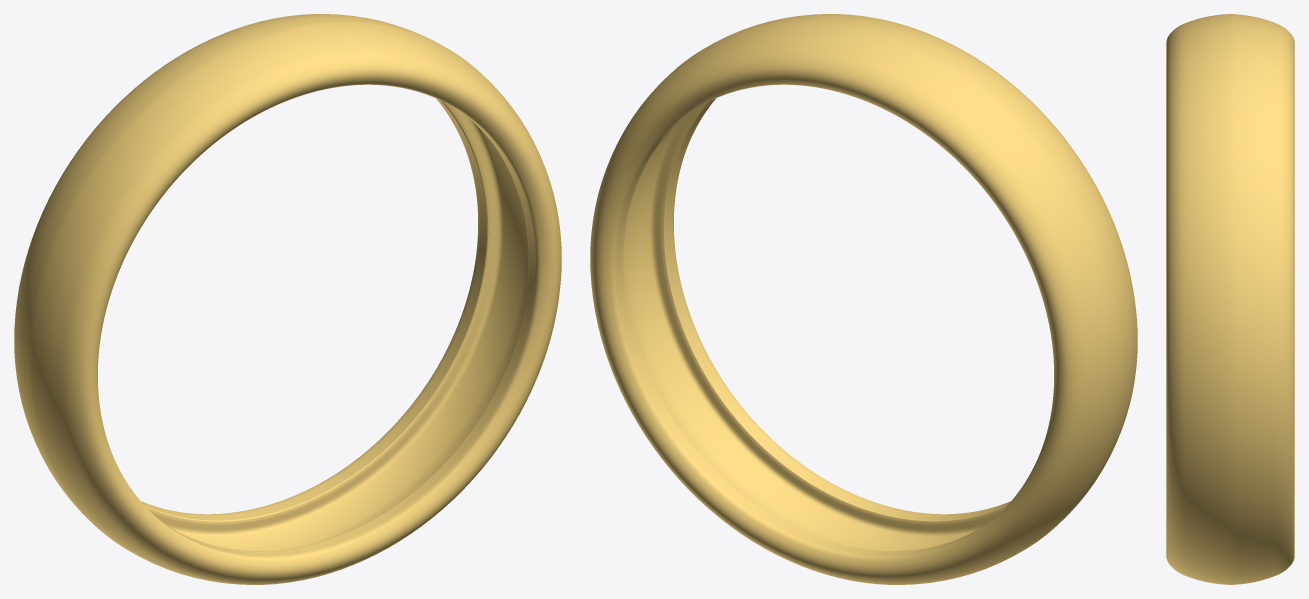
File: BarbaraYG6mm_blender.glb
3 renders of one model, left to right at view 1: azimuth 30°, elevation 25°; view 2: azimuth 150°, elevation 25°; view 3: azimuth 270°, elevation 25°, orthographic. The views are drawn at different scales.
Parts seen in each view (by area): view 1: Barbara 6 mm YG ring; view 2: Barbara 6 mm YG ring; view 3: Barbara 6 mm YG ring.
Part boxes in pixels (left/top/right/bottom): Barbara 6 mm YG ring: left=14, top=14, right=561, bottom=584; Barbara 6 mm YG ring: left=590, top=14, right=1137, bottom=584; Barbara 6 mm YG ring: left=1166, top=14, right=1294, bottom=584.
Size of the model in its own units: 27.1 by 27.1 by 6.09.
